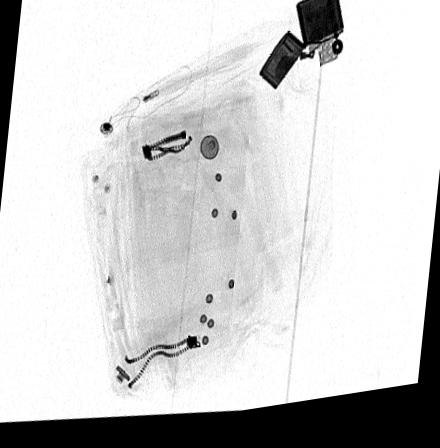Lighter: (257, 0, 343, 99)
